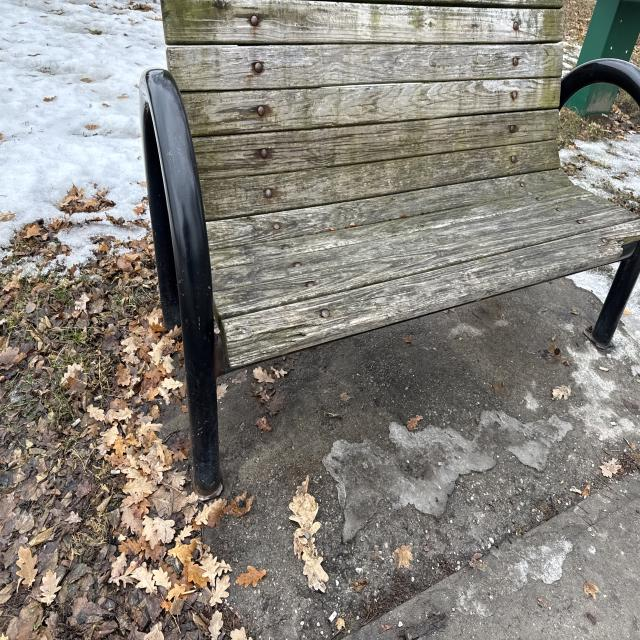Bench: (113, 14, 638, 443)
